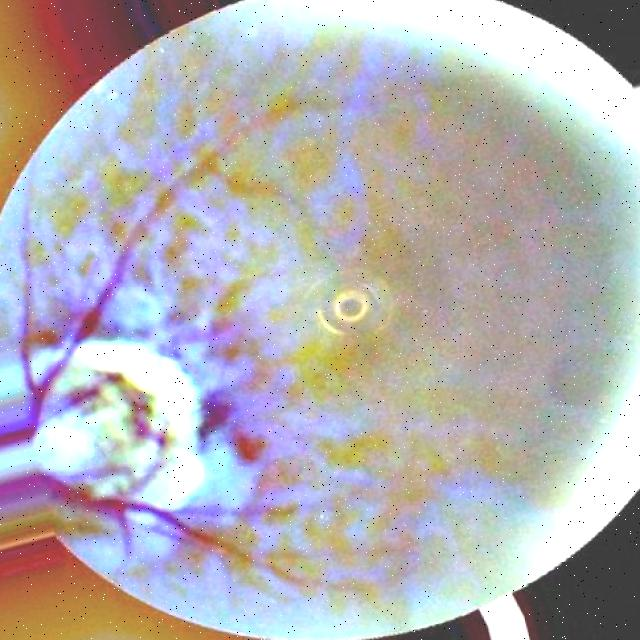Macula: (301, 265, 399, 340)
Nerves: (22, 111, 295, 416), (41, 480, 269, 572), (277, 573, 374, 592)
Optic Disk: (36, 339, 209, 509)
